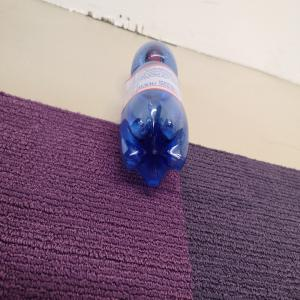Plastic-bottle: (121, 41, 190, 190)
